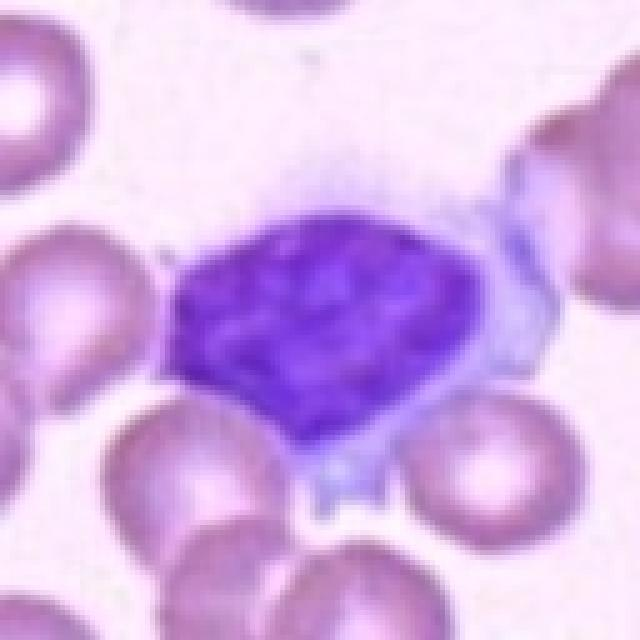lympho: (136, 140, 573, 519)
